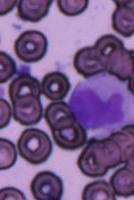M: (69, 70, 133, 134)
